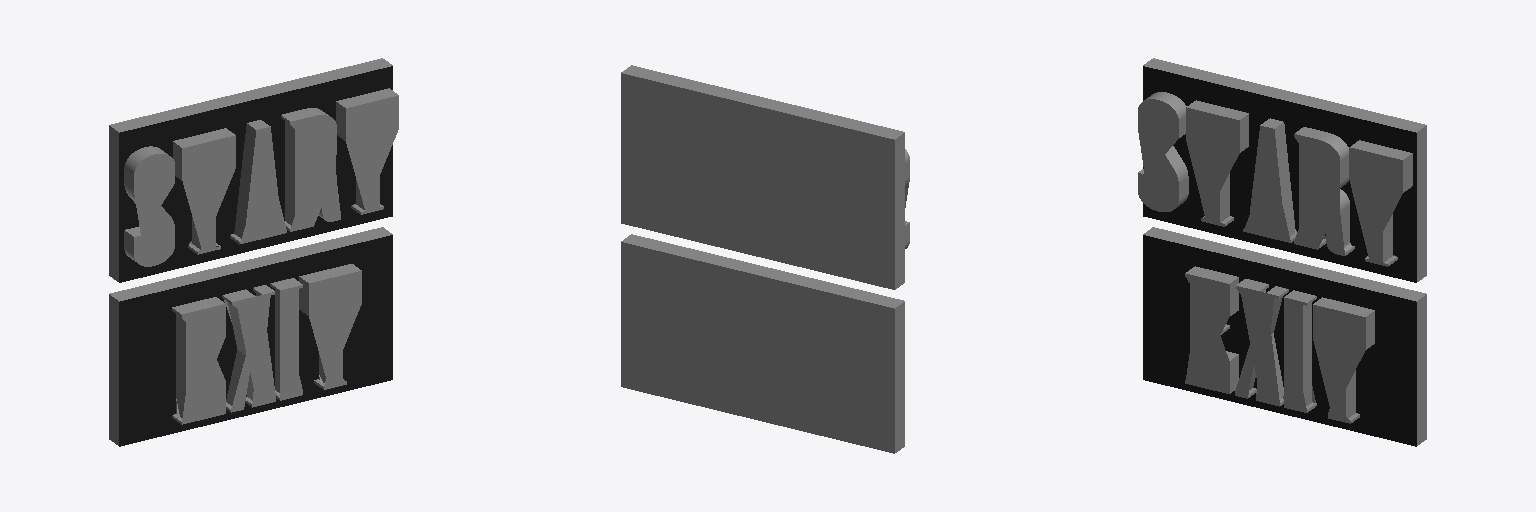
Rendered from buttons1.obj.
3 renders of one model, left to right at view 1: azimuth 30°, elevation 25°; view 2: azimuth 150°, elevation 25°; view 3: azimuth 330°, elevation 25°, orthographic.
Parts seen in each view (by area): view 1: Object004, Object003, Object004_frag_012, Object004_frag_007, Object003_frag_006, Object004_frag_124, Object004_frag_077, Object003_frag_082, Object004_frag_051, Object003_frag_104, Object004_frag_133, Object004_frag_063 (+7 smaller); view 2: Object004, Object003, Object003_frag_114, Object003_frag_127, Object003_frag_044, Object004_frag_136, Object003_frag_078, Object004_frag_120, Object004_frag_019, Object004_frag_051, Object004_frag_001; view 3: Object004, Object003, Object004_frag_012, Object004_frag_007, Object004_frag_063, Object004_frag_051, Object004_frag_133, Object003_frag_032, Object003_frag_011, Object004_frag_069, Object003_frag_086, Object003_frag_071 (+3 smaller).
Boxes of the visible parts, x1=… form: Object004: x1=109, y1=58, x2=398, y2=282; Object003: x1=109, y1=227, x2=392, y2=446; Object004_frag_012: x1=265, y1=76, x2=322, y2=130; Object004_frag_007: x1=146, y1=104, x2=203, y2=150; Object003_frag_006: x1=146, y1=278, x2=187, y2=318; Object004_frag_124: x1=218, y1=87, x2=282, y2=132; Object004_frag_077: x1=311, y1=70, x2=352, y2=115; Object003_frag_082: x1=176, y1=375, x2=199, y2=423; Object004_frag_051: x1=178, y1=221, x2=232, y2=267; Object003_frag_104: x1=225, y1=256, x2=274, y2=301; Object004_frag_133: x1=184, y1=138, x2=216, y2=196; Object004_frag_063: x1=196, y1=98, x2=241, y2=142; Object004: x1=621, y1=65, x2=909, y2=289; Object003: x1=621, y1=234, x2=904, y2=453; Object003_frag_114: x1=820, y1=377, x2=866, y2=434; Object003_frag_127: x1=759, y1=375, x2=814, y2=419; Object003_frag_044: x1=832, y1=408, x2=904, y2=451; Object004_frag_136: x1=819, y1=211, x2=866, y2=268; Object003_frag_078: x1=788, y1=339, x2=818, y2=386; Object004_frag_120: x1=621, y1=89, x2=656, y2=145; Object004_frag_019: x1=715, y1=138, x2=769, y2=195; Object004_frag_051: x1=781, y1=225, x2=831, y2=273; Object004_frag_001: x1=692, y1=198, x2=738, y2=229; Object004: x1=1138, y1=58, x2=1426, y2=282; Object003: x1=1143, y1=227, x2=1426, y2=446; Object004_frag_012: x1=1292, y1=96, x2=1353, y2=136; Object004_frag_007: x1=1175, y1=75, x2=1229, y2=105; Object004_frag_063: x1=1223, y1=80, x2=1264, y2=143; Object004_frag_051: x1=1201, y1=199, x2=1255, y2=243; Object004_frag_133: x1=1188, y1=107, x2=1219, y2=168; Object003_frag_032: x1=1143, y1=333, x2=1186, y2=373; Object003_frag_011: x1=1292, y1=265, x2=1352, y2=317; Object004_frag_069: x1=1254, y1=134, x2=1289, y2=203; Object003_frag_086: x1=1374, y1=282, x2=1416, y2=331; Object003_frag_071: x1=1384, y1=357, x2=1426, y2=391.
Size of the model in its own units: 10.88 by 11.92 by 1.4.